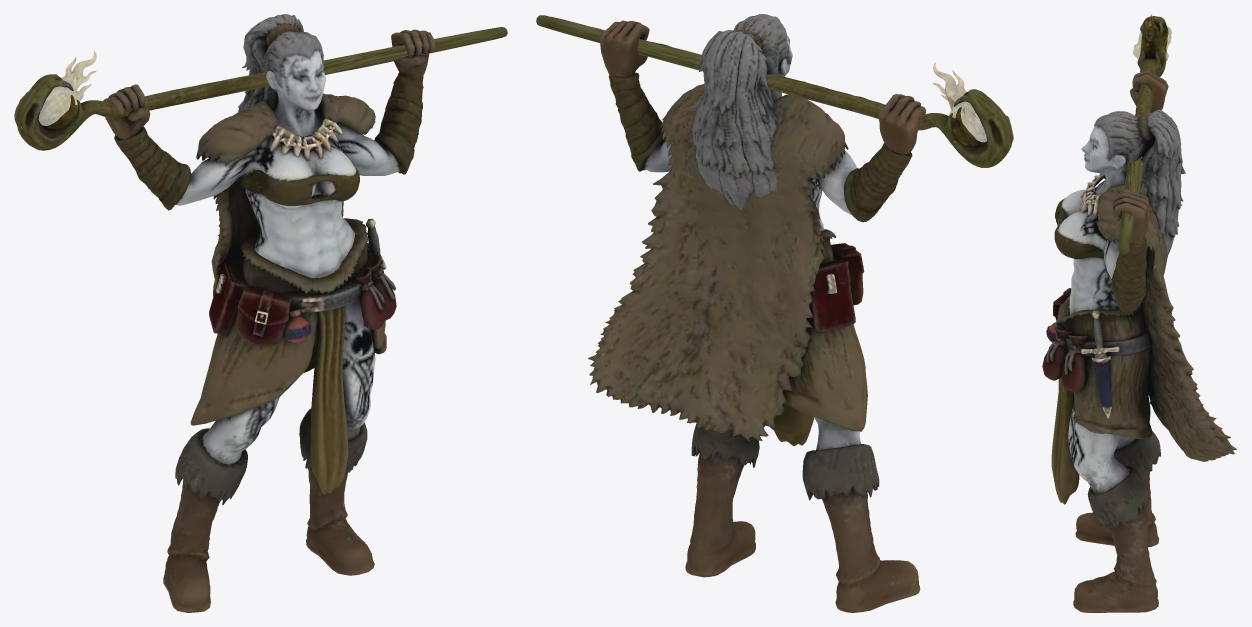
Rendered from MZ4250 - Arch Druid Female_gol_Spores.glb.
3 renders of one model, left to right at view 1: azimuth 30°, elevation 25°; view 2: azimuth 150°, elevation 25°; view 3: azimuth 270°, elevation 25°, orthographic. The views are drawn at different scales.
Parts seen in each view (by area): view 1: Spores; view 2: Spores; view 3: Spores.
Boxes of the visible parts, box(x1,y1,x2,y2) form: Spores: box(14, 14, 507, 612); Spores: box(536, 14, 1013, 612); Spores: box(1042, 14, 1236, 612).
Bounding box in the file's own units: 1872 × 2083 × 753.
2 materials, 2 textured.
